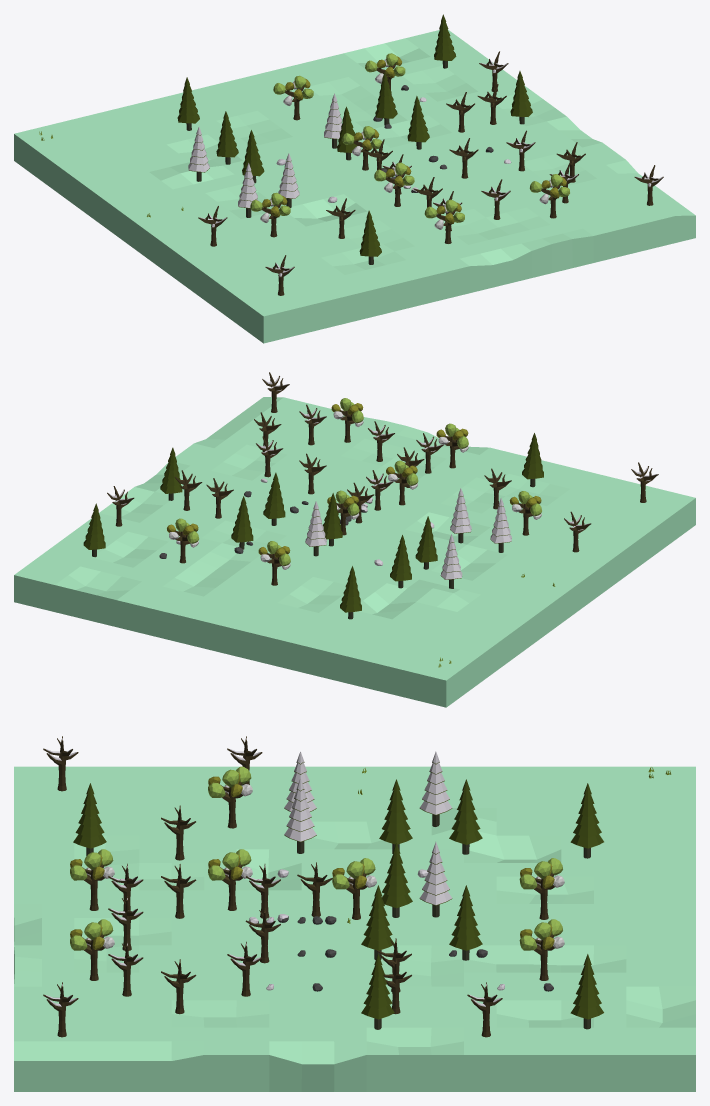
3 renders of one model, top to bottom at view 1: azimuth 30°, elevation 25°; view 2: azimuth 150°, elevation 25°; view 3: azimuth 270°, elevation 25°, orthographic. The views are drawn at different scales.
Parts seen in each view (by area): view 1: Plane, Arbre_Normal_Cylinder.001, Arbre_Normal_Cylinder.007, Arbre_Normal_Cylinder.005, Arbre_Normal_Cylinder.004, Arbre_Normal_Cylinder.006, Arbre_Normal_Cylinder.002, Arbre_Normal_Cylinder.003, SapinHiver.015_Cylinder.004, SapinHiver.015_Cylinder.002, SapinHiver.015_Cylinder.008, SapinHiver.015_Cylinder.005 (+8 smaller); view 2: Plane, Arbre_Normal_Cylinder.007, Arbre_Normal_Cylinder.003, Arbre_Normal_Cylinder.005, Arbre_Normal_Cylinder.006, Arbre_Normal_Cylinder.004, Arbre_Normal_Cylinder.001, SapinHiver.015_Cylinder.008, SapinHiver.015_Cylinder.007, SapinHiver.015_Cylinder.001, SapinHiver.015_Cylinder.004, SapinHiver.015_Cylinder.006 (+9 smaller); view 3: Plane, Arbre_Normal_Cylinder.003, Arbre_Normal_Cylinder.001, Arbre_Normal_Cylinder.004, Arbre_Normal_Cylinder.007, Arbre_Normal_Cylinder.005, Arbre_Normal_Cylinder.002, Arbre_Normal_Cylinder.006, SapinHiver.015_Cylinder.005, SapinHiver.015_Cylinder.003, SapinHiver.015_Cylinder.002, SapinHiver.015_Cylinder.007 (+14 smaller).
Part boxes in pixels (<box>): Plane: <box>14,29,695,343</box>; Arbre_Normal_Cylinder.001: <box>273,75,313,120</box>; Arbre_Normal_Cylinder.007: <box>250,192,290,237</box>; Arbre_Normal_Cylinder.005: <box>424,199,464,243</box>; Arbre_Normal_Cylinder.004: <box>529,174,569,218</box>; Arbre_Normal_Cylinder.006: <box>374,162,414,206</box>; Arbre_Normal_Cylinder.002: <box>342,126,382,170</box>; Arbre_Normal_Cylinder.003: <box>365,53,405,95</box>; SapinHiver.015_Cylinder.004: <box>407,96,429,149</box>; SapinHiver.015_Cylinder.002: <box>216,111,238,164</box>; SapinHiver.015_Cylinder.008: <box>359,210,381,264</box>; SapinHiver.015_Cylinder.005: <box>510,71,532,124</box>; Plane: <box>14,397,695,707</box>; Arbre_Normal_Cylinder.007: <box>509,491,541,535</box>; Arbre_Normal_Cylinder.003: <box>167,518,199,563</box>; Arbre_Normal_Cylinder.005: <box>436,423,468,468</box>; Arbre_Normal_Cylinder.006: <box>386,460,418,505</box>; Arbre_Normal_Cylinder.004: <box>331,398,363,442</box>; Arbre_Normal_Cylinder.001: <box>258,541,290,585</box>; SapinHiver.015_Cylinder.008: <box>522,433,543,487</box>; SapinHiver.015_Cylinder.007: <box>340,566,361,619</box>; SapinHiver.015_Cylinder.001: <box>415,516,437,569</box>; SapinHiver.015_Cylinder.004: <box>263,472,285,525</box>; SapinHiver.015_Cylinder.006: <box>83,503,105,557</box>; Plane: <box>14,766,695,1091</box>; Arbre_Normal_Cylinder.003: <box>519,919,564,980</box>; Arbre_Normal_Cylinder.001: <box>519,858,564,919</box>; Arbre_Normal_Cylinder.004: <box>70,919,114,980</box>; Arbre_Normal_Cylinder.007: <box>208,766,252,828</box>; Arbre_Normal_Cylinder.005: <box>70,849,114,910</box>; Arbre_Normal_Cylinder.002: <box>332,858,376,919</box>; Arbre_Normal_Cylinder.006: <box>208,849,252,910</box>; SapinHiver.015_Cylinder.005: <box>361,954,394,1029</box>; SapinHiver.015_Cylinder.003: <box>449,885,482,960</box>; SapinHiver.015_Cylinder.002: <box>449,779,482,854</box>; SapinHiver.015_Cylinder.007: <box>570,783,603,858</box>.
Size of what is drawn, in the model's own units: 42.03 by 7.59 by 41.81.
